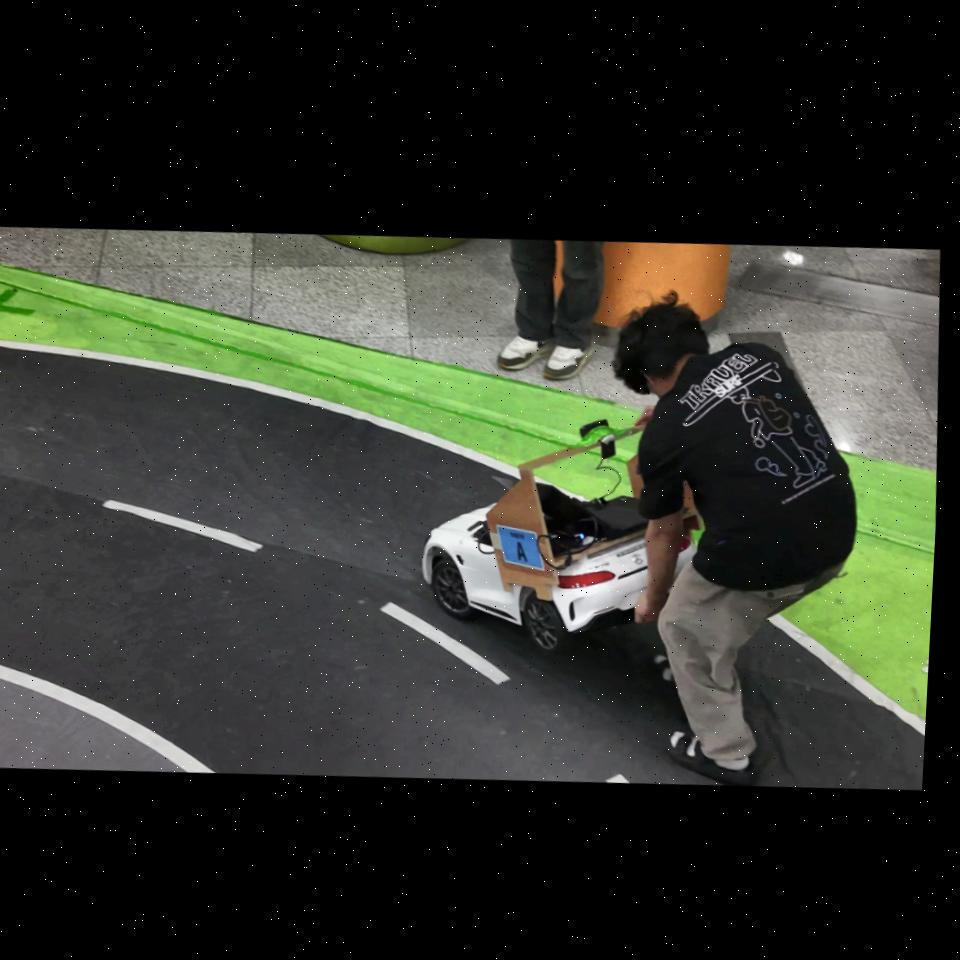broken_line: (381, 603, 509, 684), (103, 500, 264, 552), (606, 774, 630, 783)
